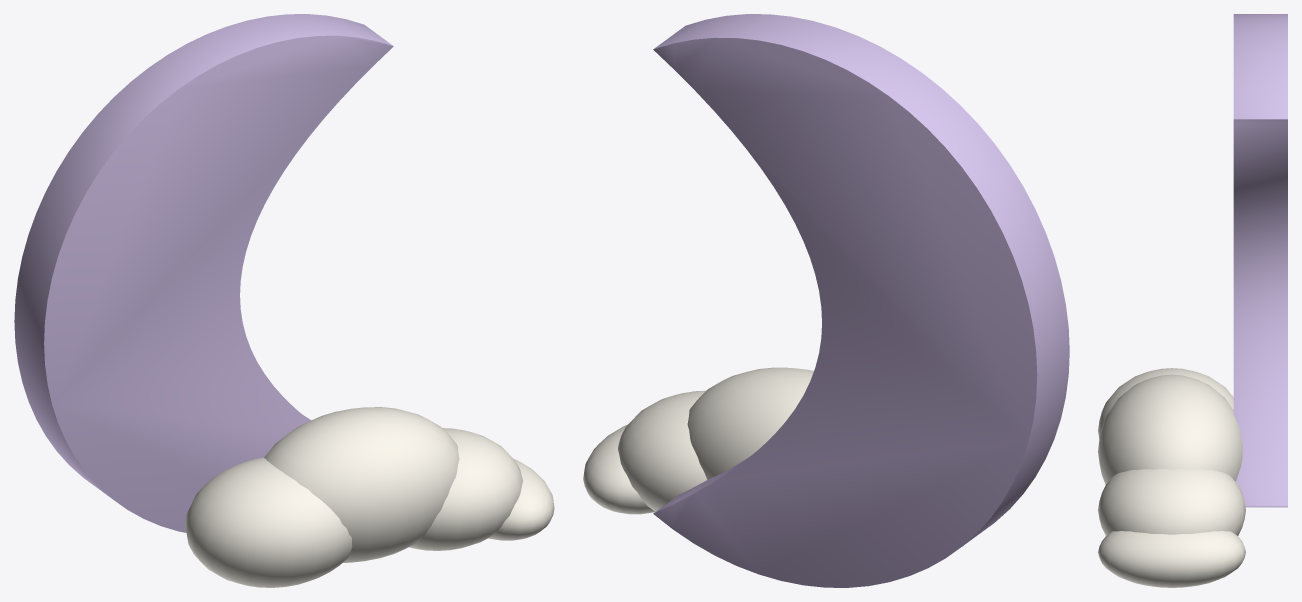
The model's file is recovery.glb.
3 views of the same model, side by side, from view 1: azimuth 30°, elevation 25°; view 2: azimuth 150°, elevation 25°; view 3: azimuth 270°, elevation 25° (orthographic). The views are drawn at different scales.
Parts seen in each view (by area): view 1: Recovery_Moon, Recovery_Cloud_1, Recovery_Cloud_0, Recovery_Cloud_2, Recovery_Cloud_3; view 2: Recovery_Moon, Recovery_Cloud_1, Recovery_Cloud_2, Recovery_Cloud_3; view 3: Recovery_Moon, Recovery_Cloud_1, Recovery_Cloud_2, Recovery_Cloud_3, Recovery_Cloud_0.
Part boxes in pixels (left/top/right/bottom): Recovery_Moon: left=14, top=14, right=393, bottom=532; Recovery_Cloud_1: left=264, top=407, right=459, bottom=562; Recovery_Cloud_0: left=185, top=457, right=352, bottom=587; Recovery_Cloud_2: left=409, top=428, right=522, bottom=550; Recovery_Cloud_3: left=488, top=459, right=554, bottom=540; Recovery_Moon: left=653, top=14, right=1069, bottom=587; Recovery_Cloud_1: left=687, top=367, right=813, bottom=479; Recovery_Cloud_2: left=618, top=390, right=707, bottom=511; Recovery_Cloud_3: left=583, top=424, right=655, bottom=514; Recovery_Moon: left=1233, top=14, right=1287, bottom=507; Recovery_Cloud_1: left=1098, top=374, right=1242, bottom=484; Recovery_Cloud_2: left=1098, top=469, right=1245, bottom=535; Recovery_Cloud_3: left=1098, top=531, right=1245, bottom=587; Recovery_Cloud_0: left=1098, top=368, right=1233, bottom=438.
Bounding box in the file's own units: 1.98 × 2.07 × 0.77.
